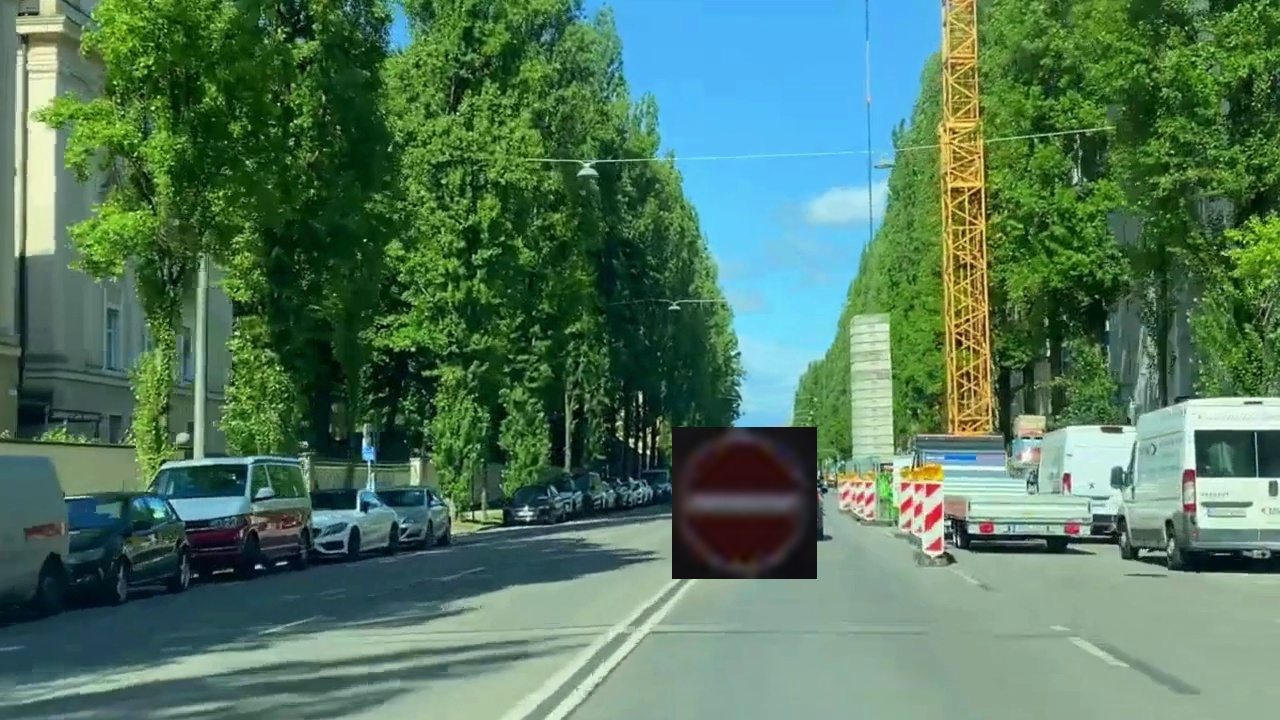No entry: (672, 427, 817, 579)
